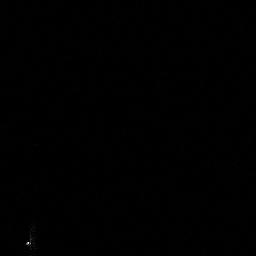ship: (24, 226, 41, 256)
